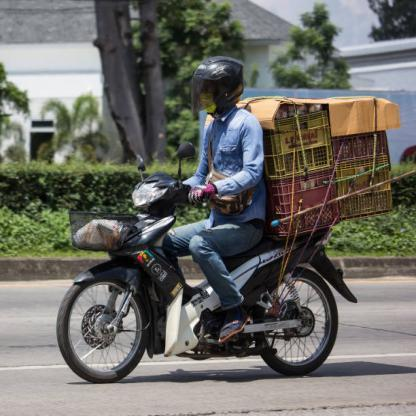Motorcycle: (49, 157, 355, 389)
